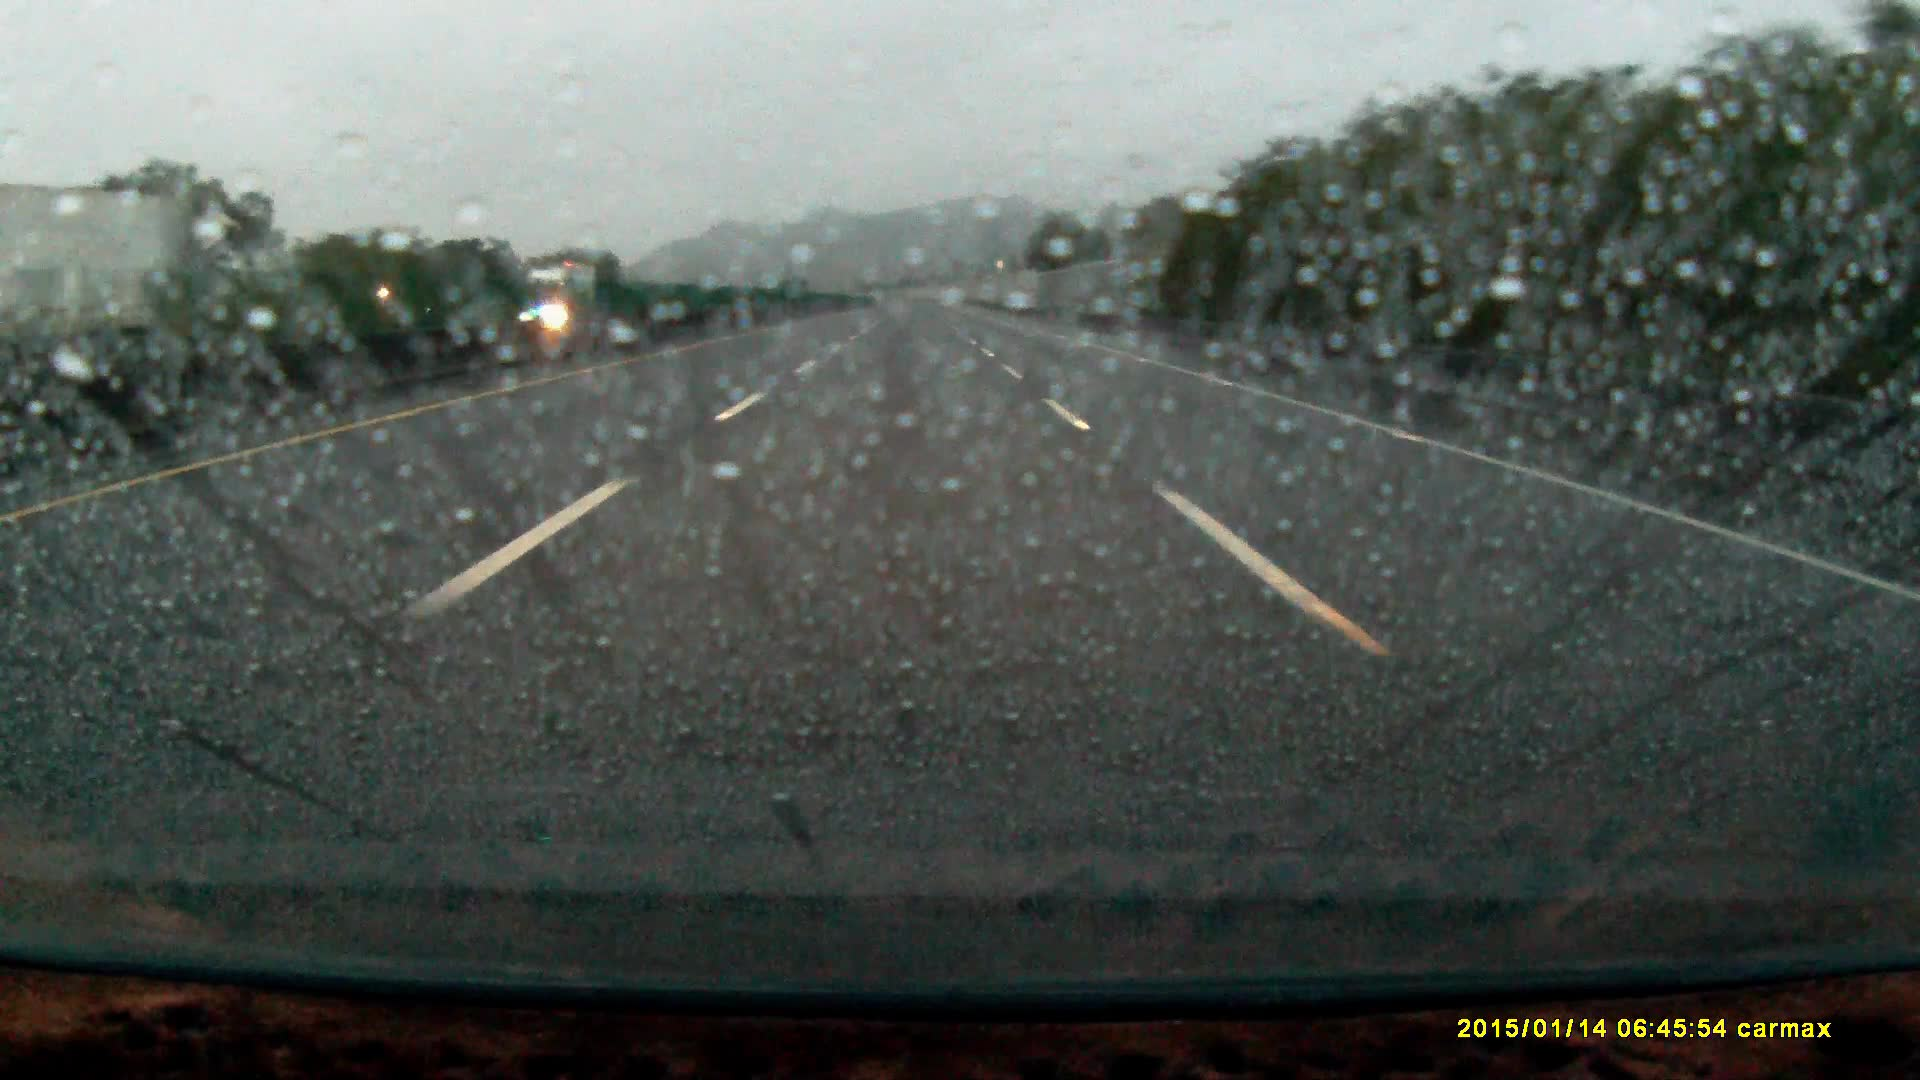vehicle: (1, 186, 193, 368), (524, 262, 603, 330)
